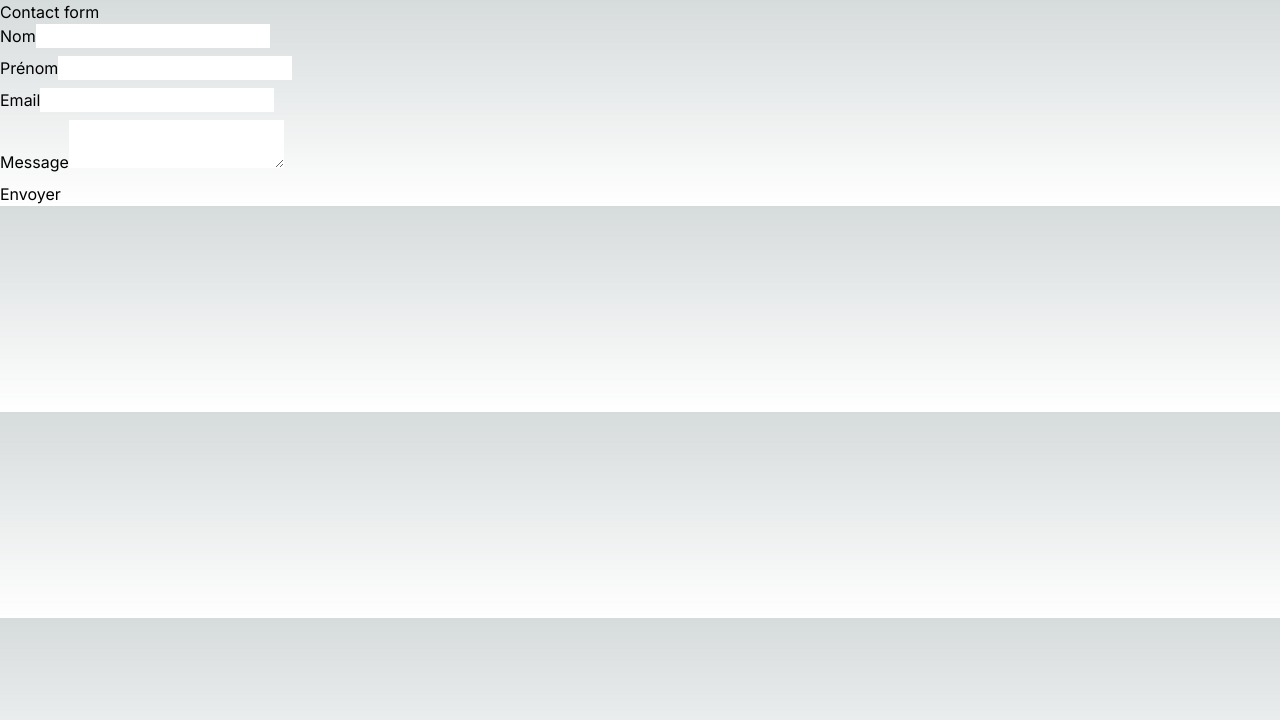
Test: Contact › should make a goold fill of form
The image size is (1280, 720).
Type "John" into the 1st field named "lastname" at (153, 36), box left=36, top=24, right=270, bottom=48
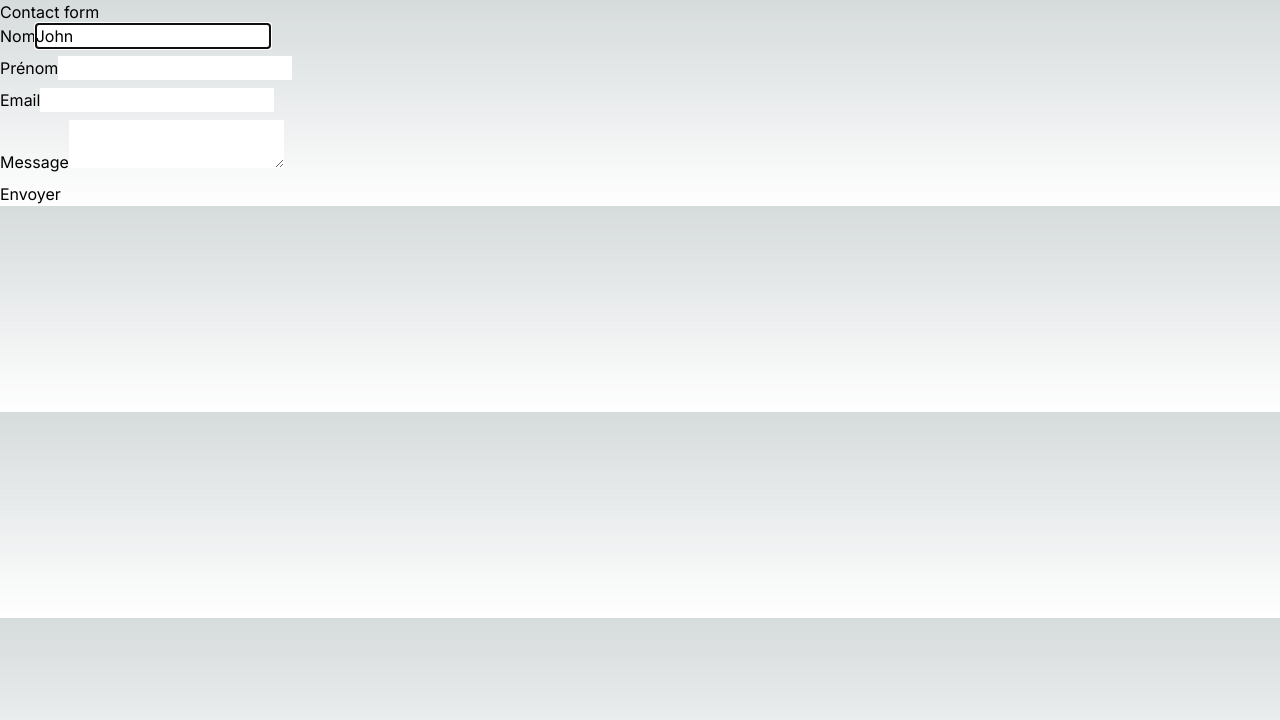
Type "Doe" into the field named "firstname" next to "Prénom" at (175, 68), box left=58, top=56, right=292, bottom=80
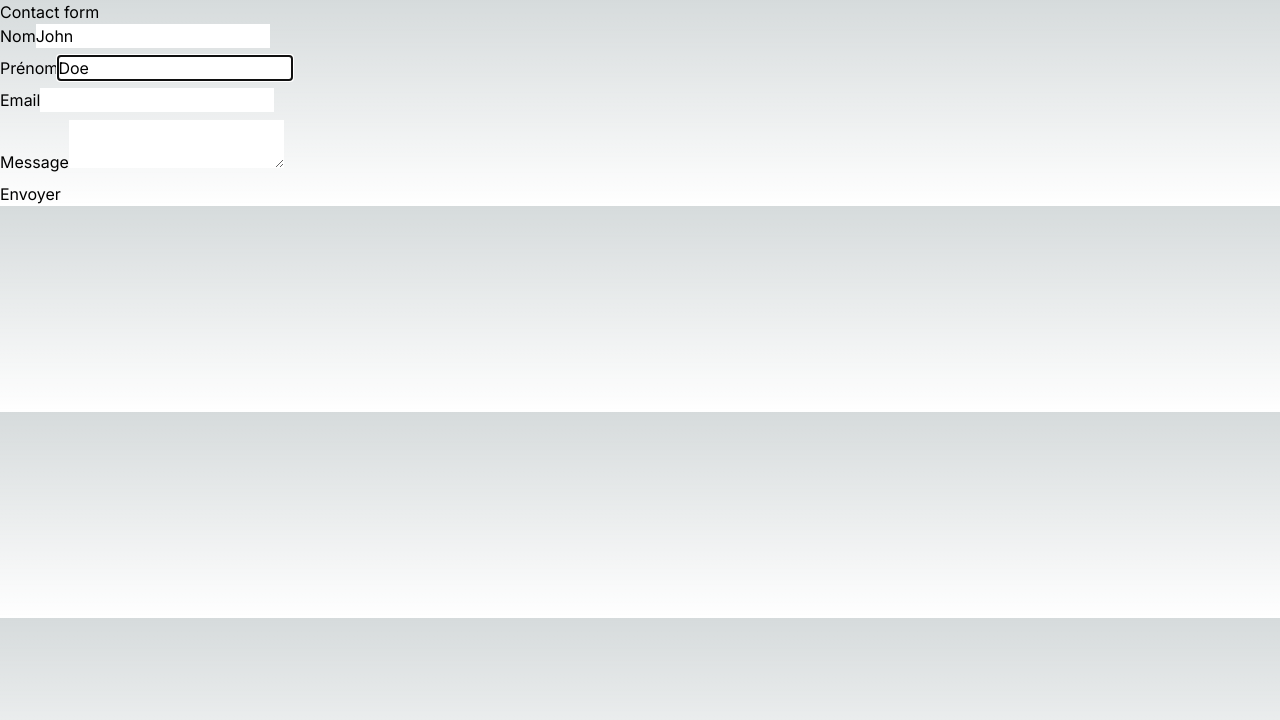
Type "johnDoe@gmail.com" into the field named "email" next to "Email" at (157, 100), box left=40, top=88, right=274, bottom=112
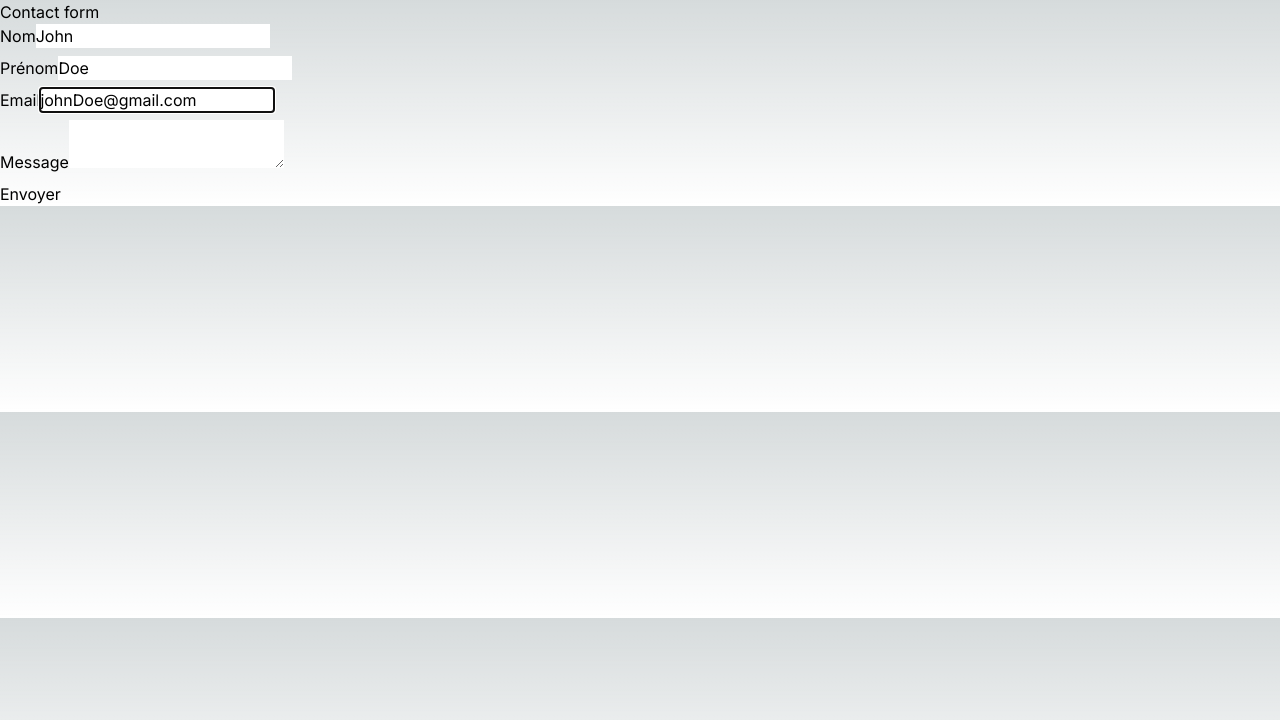
Type "this is a message" into the text box named "msg" at (177, 144), box left=69, top=120, right=284, bottom=168
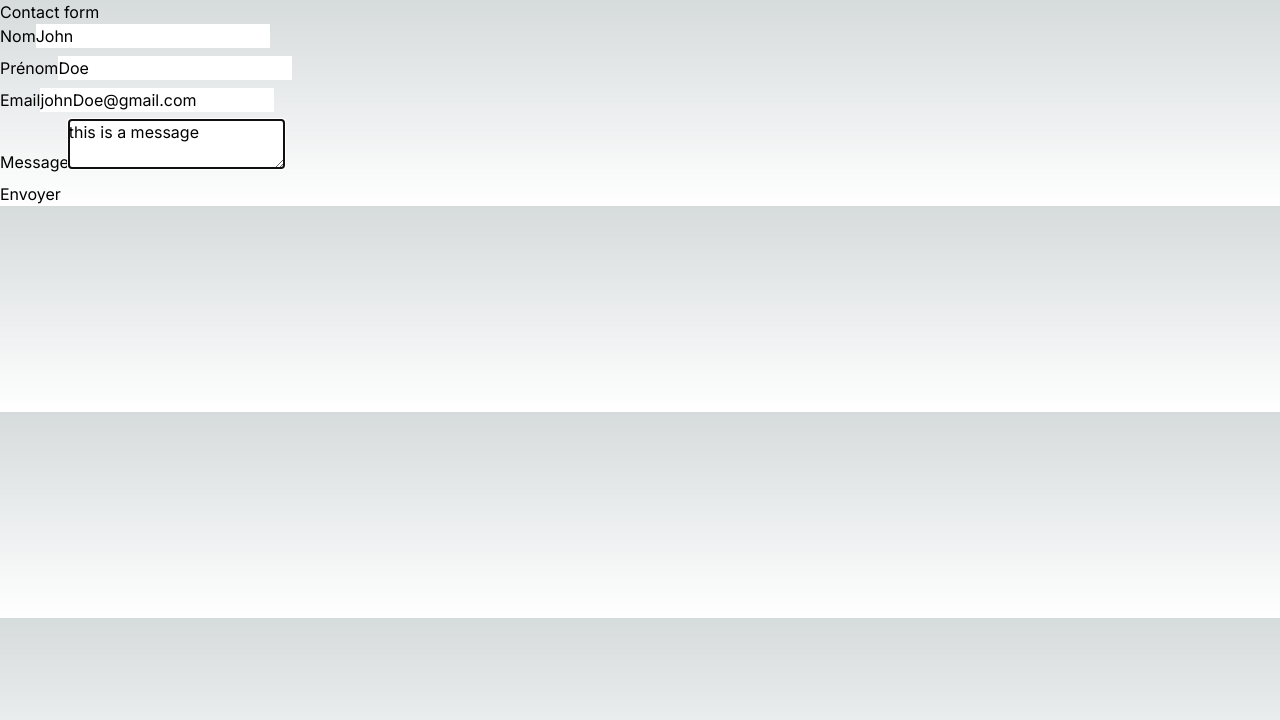
Click the submit button at (31, 194), box left=0, top=182, right=61, bottom=206
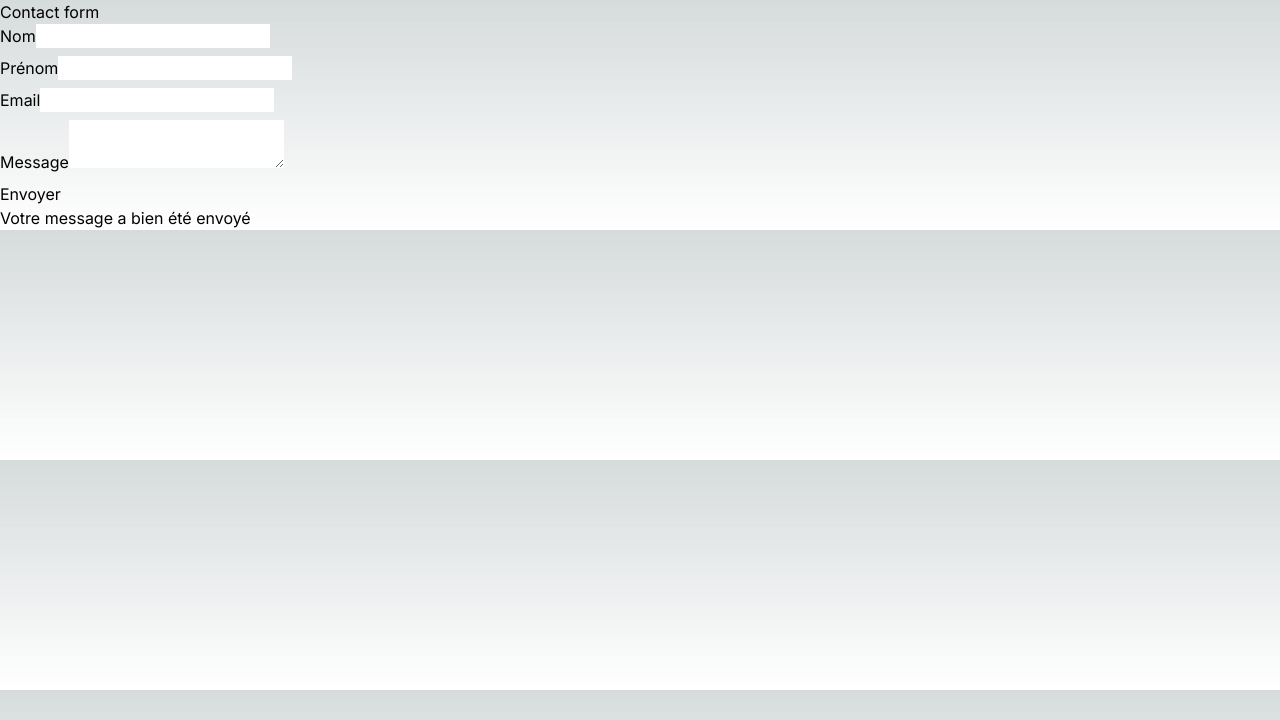
Check: the text "Votre message a bien été envoyé" is shown, box left=0, top=208, right=251, bottom=228
